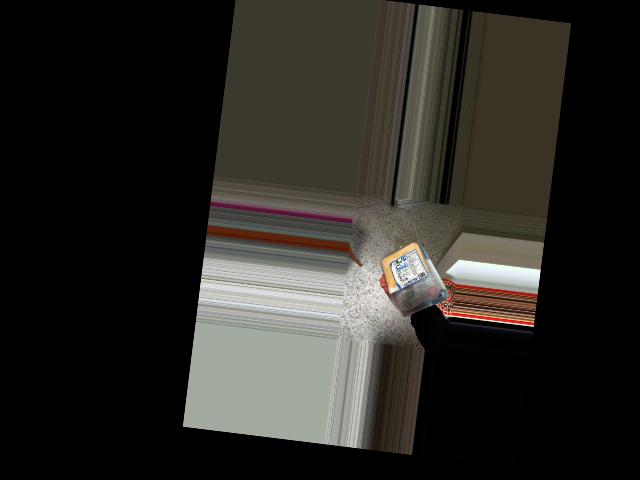cheese: (383, 238, 427, 307)
